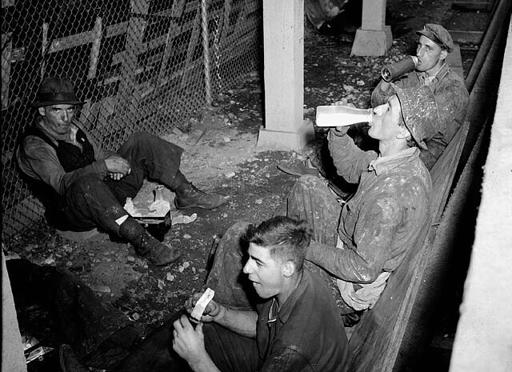safe person: (17, 73, 210, 256)
unsafe person: (236, 219, 334, 372)
